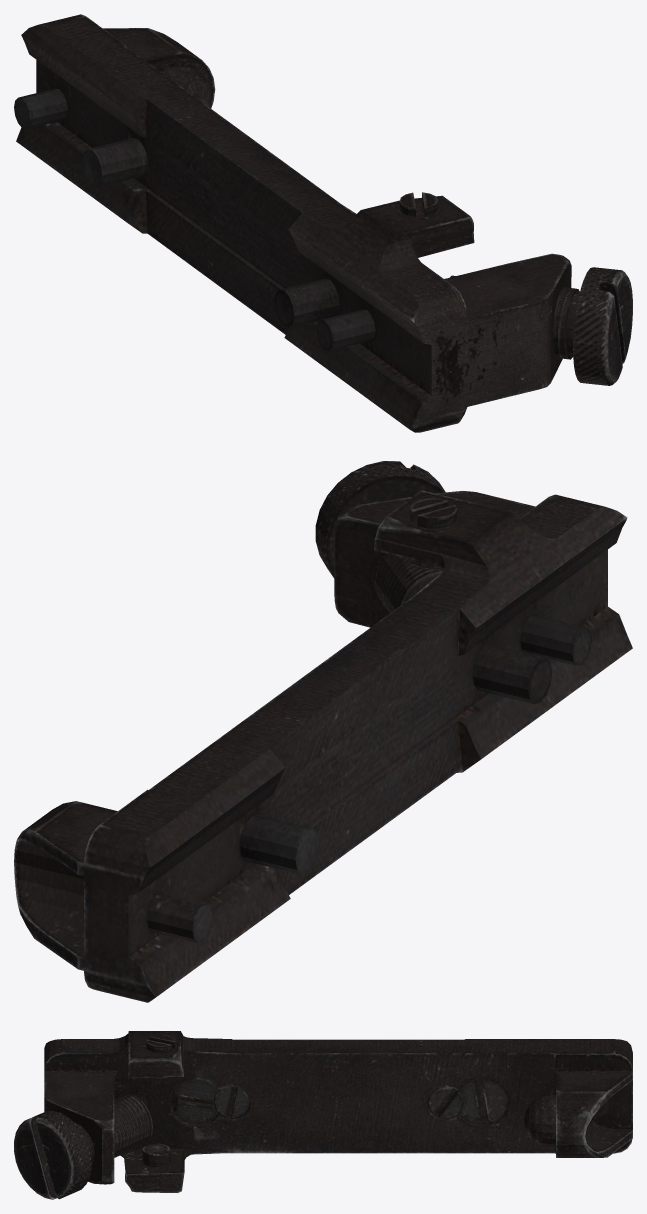
3 renders of one model, top to bottom at view 1: azimuth 30°, elevation 25°; view 2: azimuth 150°, elevation 25°; view 3: azimuth 270°, elevation 25°, orthographic. The views are drawn at different scales.
Parts seen in each view (by area): view 1: TW_5b3f7bf05acfc433000ecf6b_PZ_Import; view 2: TW_5b3f7bf05acfc433000ecf6b_PZ_Import; view 3: TW_5b3f7bf05acfc433000ecf6b_PZ_Import.
Part boxes in pixels (<box>): TW_5b3f7bf05acfc433000ecf6b_PZ_Import: <box>14,14,632,432</box>; TW_5b3f7bf05acfc433000ecf6b_PZ_Import: <box>14,461,632,1002</box>; TW_5b3f7bf05acfc433000ecf6b_PZ_Import: <box>14,1031,632,1199</box>.
Size of the model in its own units: 0.0257 by 0.0695 by 0.0179.
Materials: 1 (1 with a texture image).
